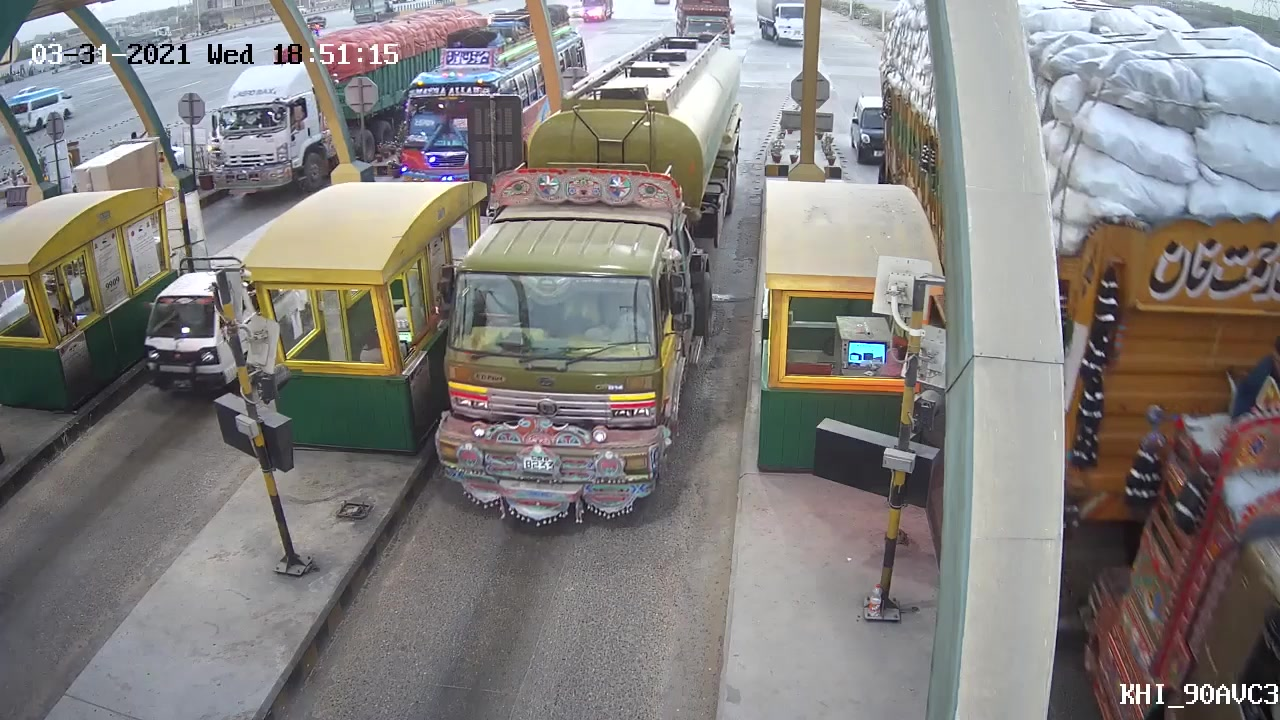F6: (432, 24, 750, 528)
